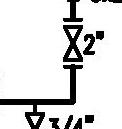verticalvalve: (62, 17, 84, 69)
